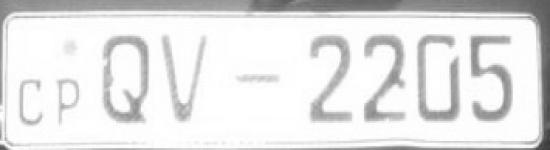-: (228, 66, 288, 100)
0: (415, 25, 466, 128)
2: (292, 26, 356, 126), (356, 25, 414, 130)
5: (466, 24, 525, 132)
C: (10, 76, 48, 132)
P: (50, 76, 87, 131)
Q: (93, 27, 155, 132)
V: (156, 23, 214, 130)
